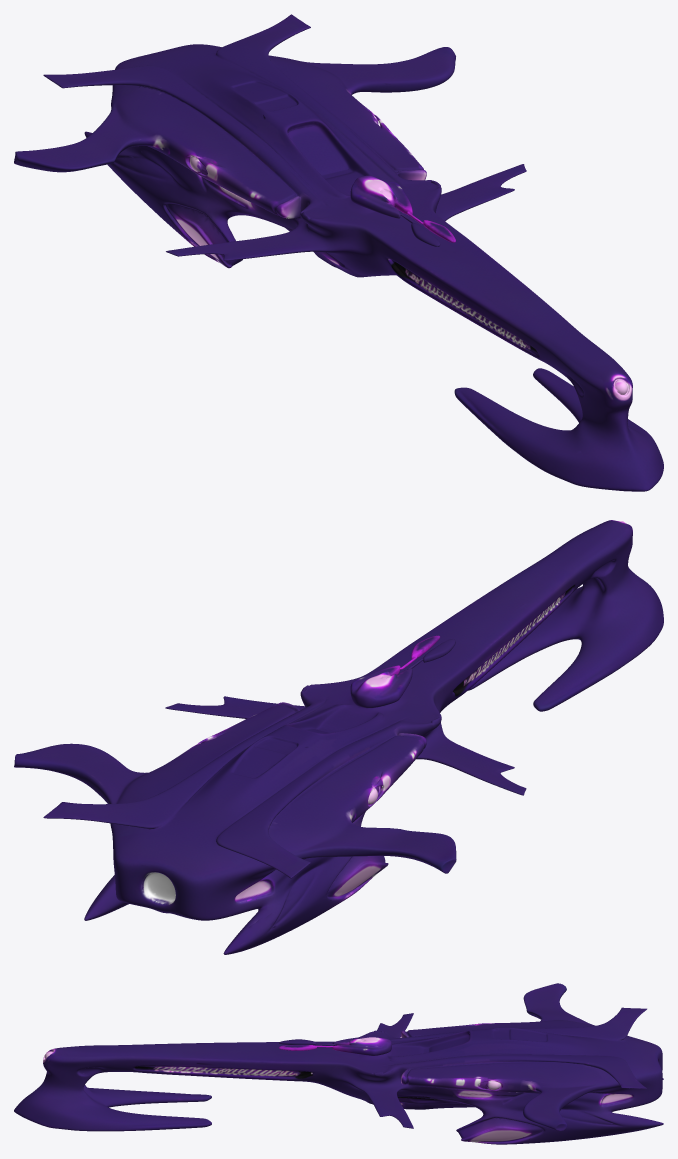
The model's file is Galra_Ship.glb.
The picture shows the model from 3 angles, top to bottom: view 1: azimuth 30°, elevation 25°; view 2: azimuth 150°, elevation 25°; view 3: azimuth 270°, elevation 25°; orthographic projection. The views are drawn at different scales.
Visible parts, largest first — view 1: node_0; view 2: node_0; view 3: node_0.
Part boxes in pixels (x1,y1,x2,y2): node_0: (14, 14, 663, 491); node_0: (14, 520, 663, 954); node_0: (14, 983, 663, 1144).
Size of the model in its own units: 0.606 by 0.1733 by 1.18.
1 material, 1 textured.
